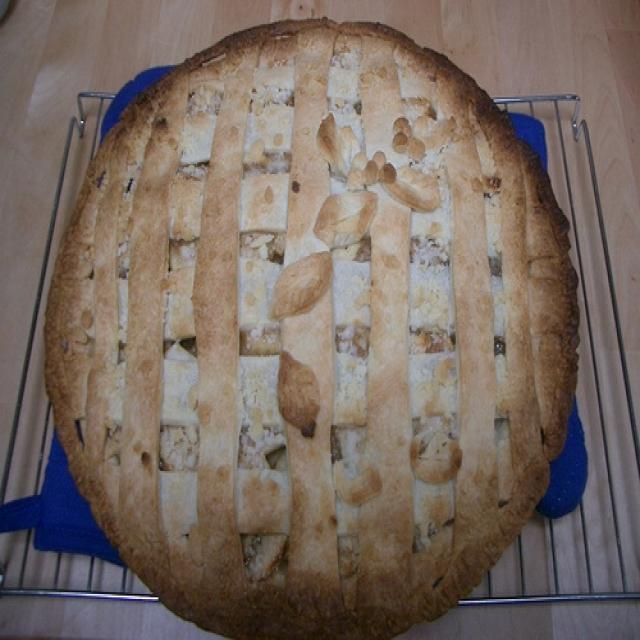Apple: (46, 1, 576, 640)
